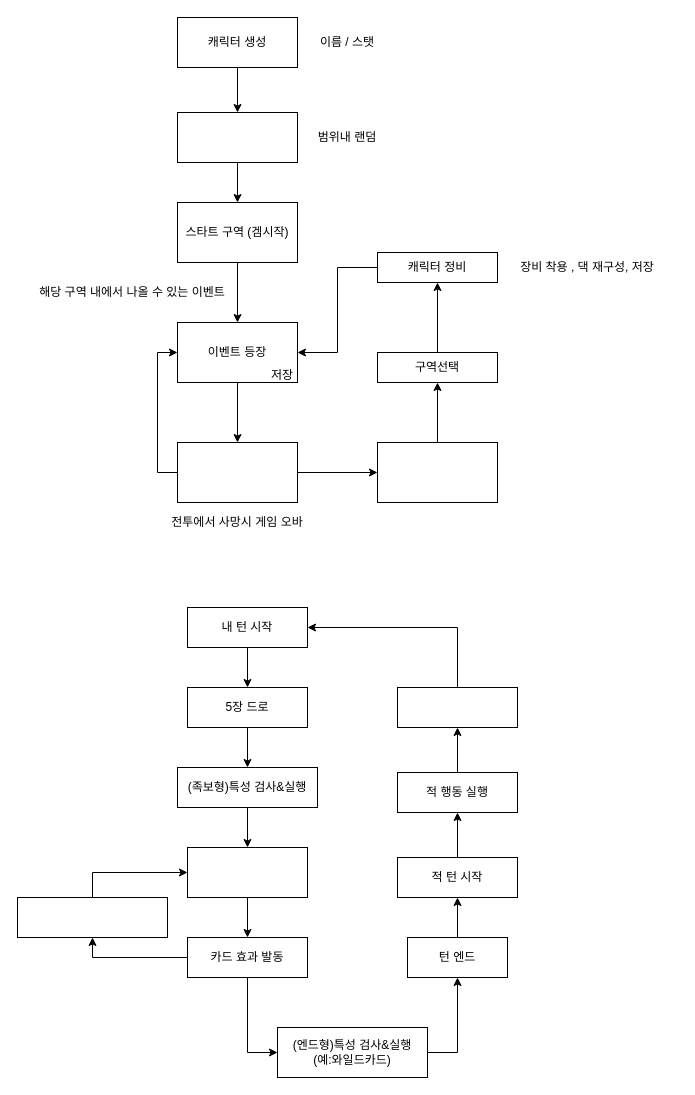
Image size: 695x1095. Some labels were removed from this diagram. The centre of each missing label's shape, as x and y in pixels:
"(발동형)특성 검사&실행" goes at [92,917].
"(전투로 이어진다면) 전투 시작" goes at [237,472].
"5개의 이벤트 진행 후" goes at [437,472].
"기본댁 주어짐" goes at [237,137].
"적 행동 종료" goes at [457,707].
"카드 사용 - 마나소비-" goes at [247,872].
